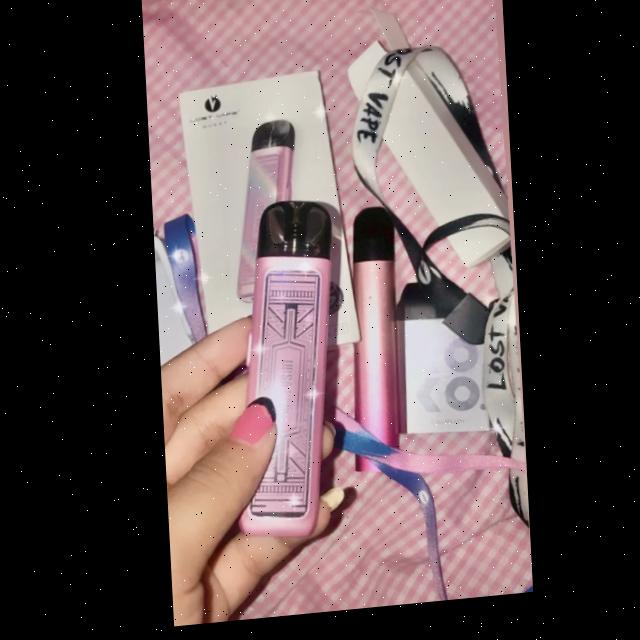vape: (219, 205, 339, 544), (340, 213, 394, 479), (227, 123, 298, 304)
